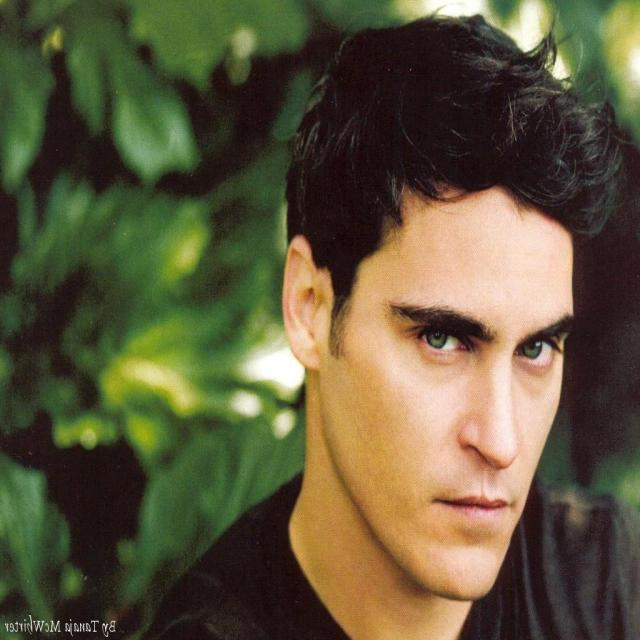no-earmuff: (280, 234, 336, 370)
